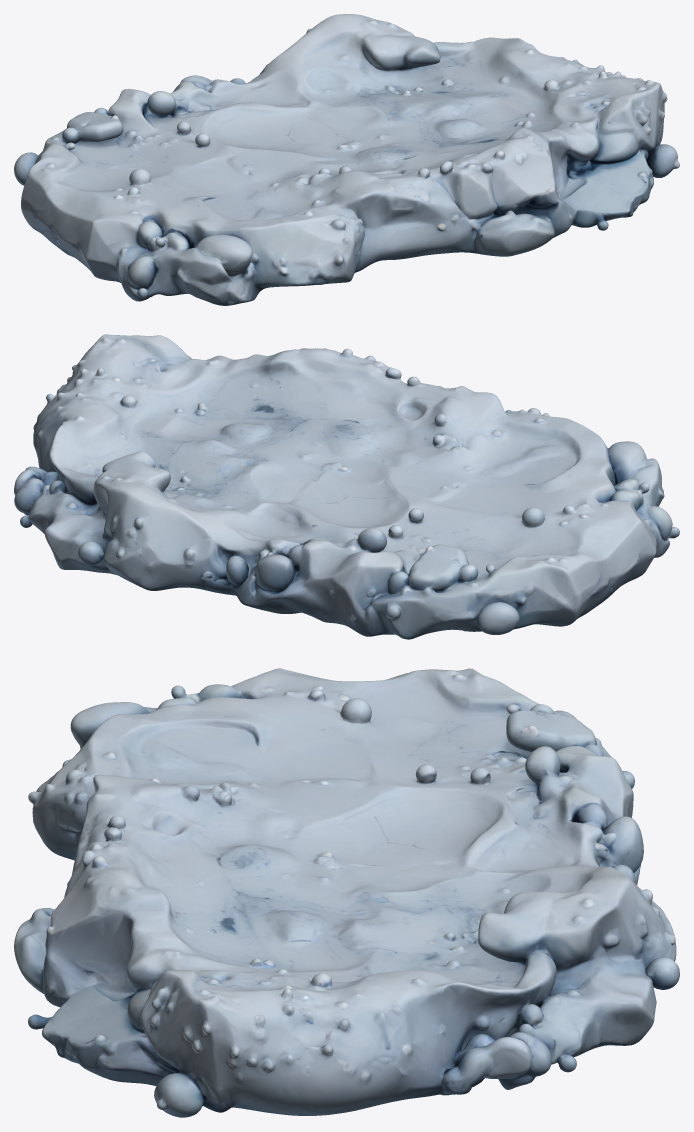
The model's file is nature-snow-patch.glb.
3 views of the same model, one above another, from view 1: azimuth 30°, elevation 25°; view 2: azimuth 150°, elevation 25°; view 3: azimuth 270°, elevation 25° (orthographic). The views are drawn at different scales.
Visible parts, largest first — view 1: tripo_node_d58fcd42-3729-4cb4-9261-c0deca6ad846; view 2: tripo_node_d58fcd42-3729-4cb4-9261-c0deca6ad846; view 3: tripo_node_d58fcd42-3729-4cb4-9261-c0deca6ad846.
Boxes of the visible parts, x1,y1,x2,y2 form: tripo_node_d58fcd42-3729-4cb4-9261-c0deca6ad846: [14, 14, 679, 305]; tripo_node_d58fcd42-3729-4cb4-9261-c0deca6ad846: [14, 334, 679, 639]; tripo_node_d58fcd42-3729-4cb4-9261-c0deca6ad846: [14, 668, 679, 1117].
Size of the model in its own units: 1.22 by 0.1999 by 0.8773.
1 material, 1 textured.
